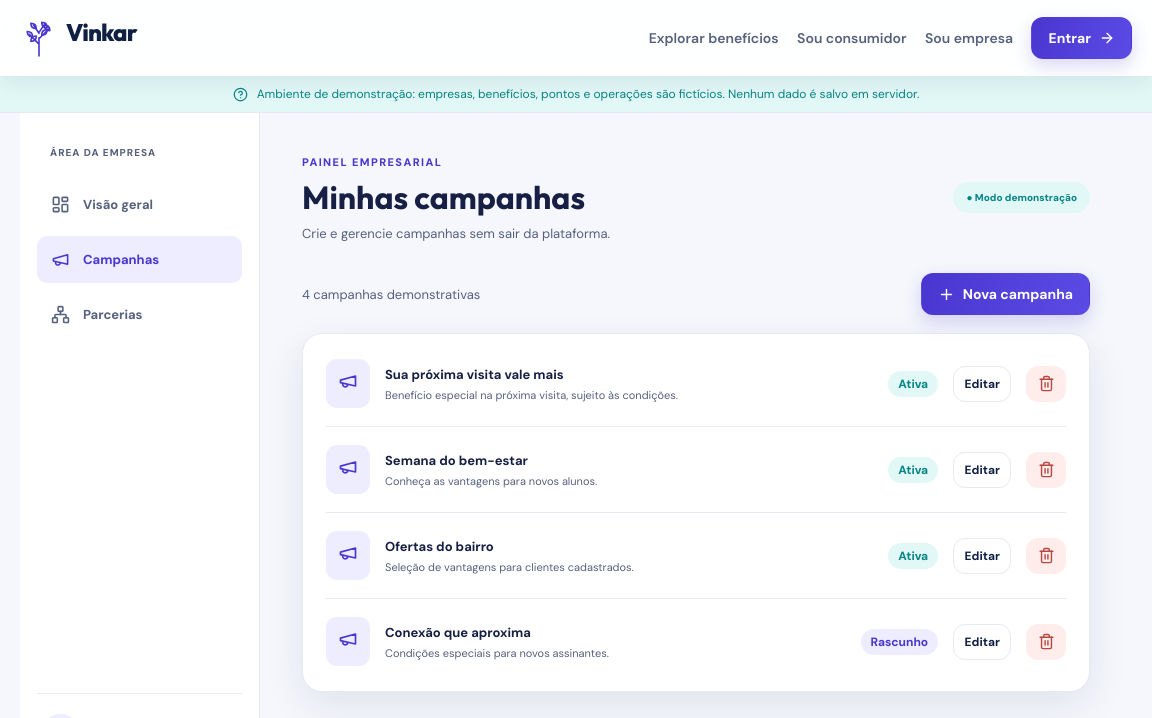
isolamento e navegação da demonstração › permite editar campanhas sem alterar a quantidade de registros
The width and height of the screenshot is (1152, 718).
Click the button with aria-label "Editar Sua próxima visita vale mais" at (982, 384), box [953,366,1011,402]
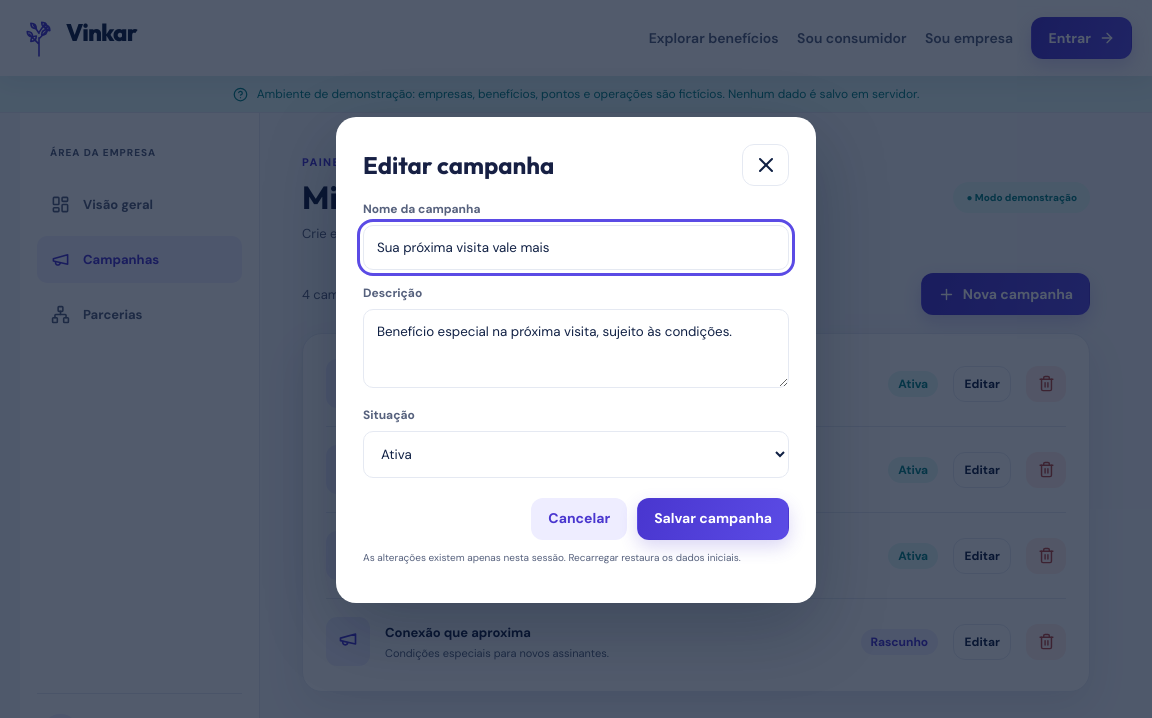
Replace the text in the field labelled "Nome da campanha" with "Campanha revisada" at (576, 247), box [363,225,789,270]
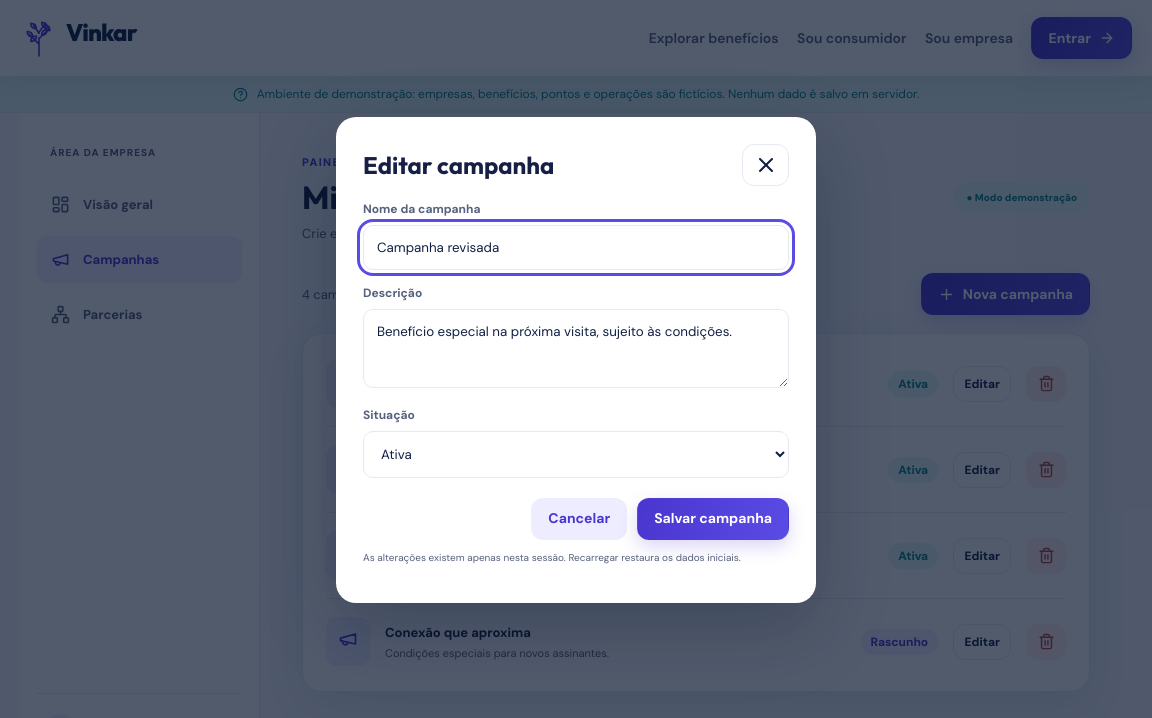
Click the button "Salvar campanha" at (713, 519), box [637,498,789,540]
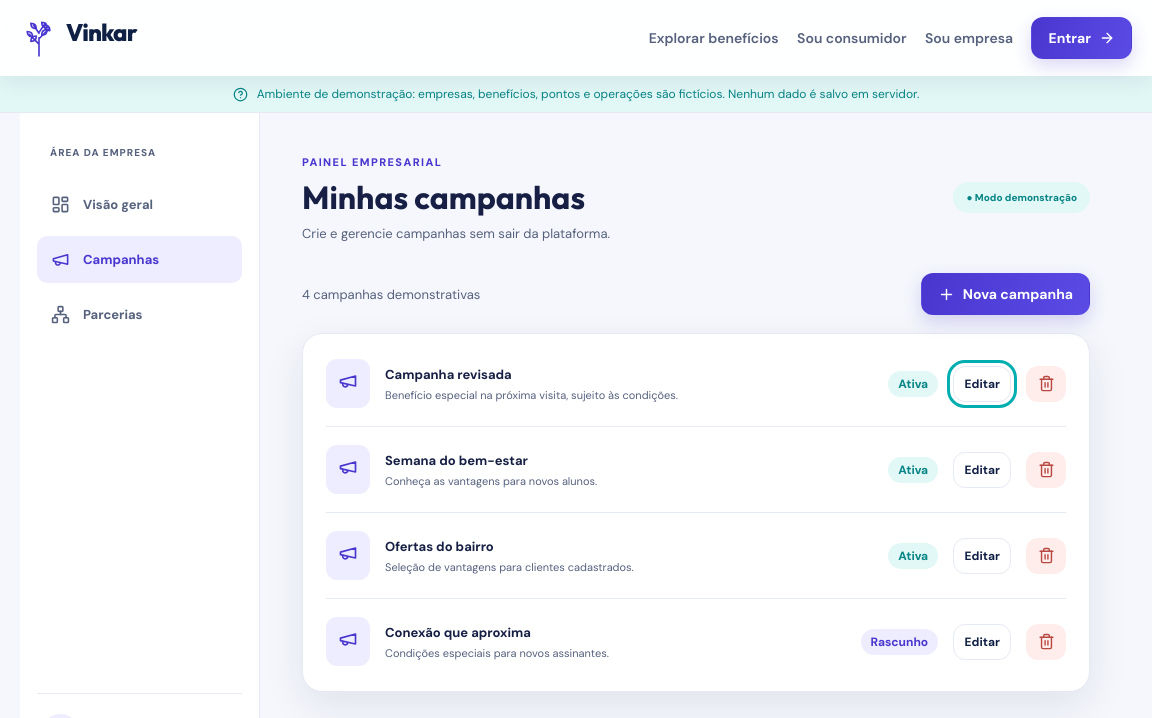
Expected: the text "4 campanhas demonstrativas" is shown, [302,286,480,303]
Result: the text "Campanha revisada" is shown at [385,366,512,383]
Result: the text "Sua próxima visita vale mais" is gone
